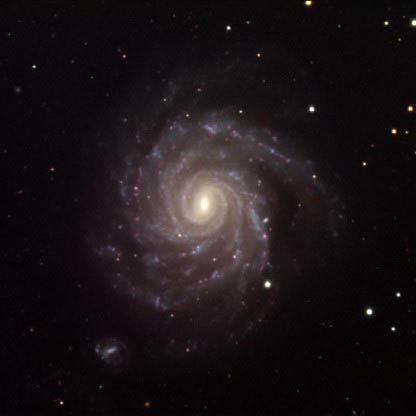NGC 1232: (66, 71, 349, 385)
